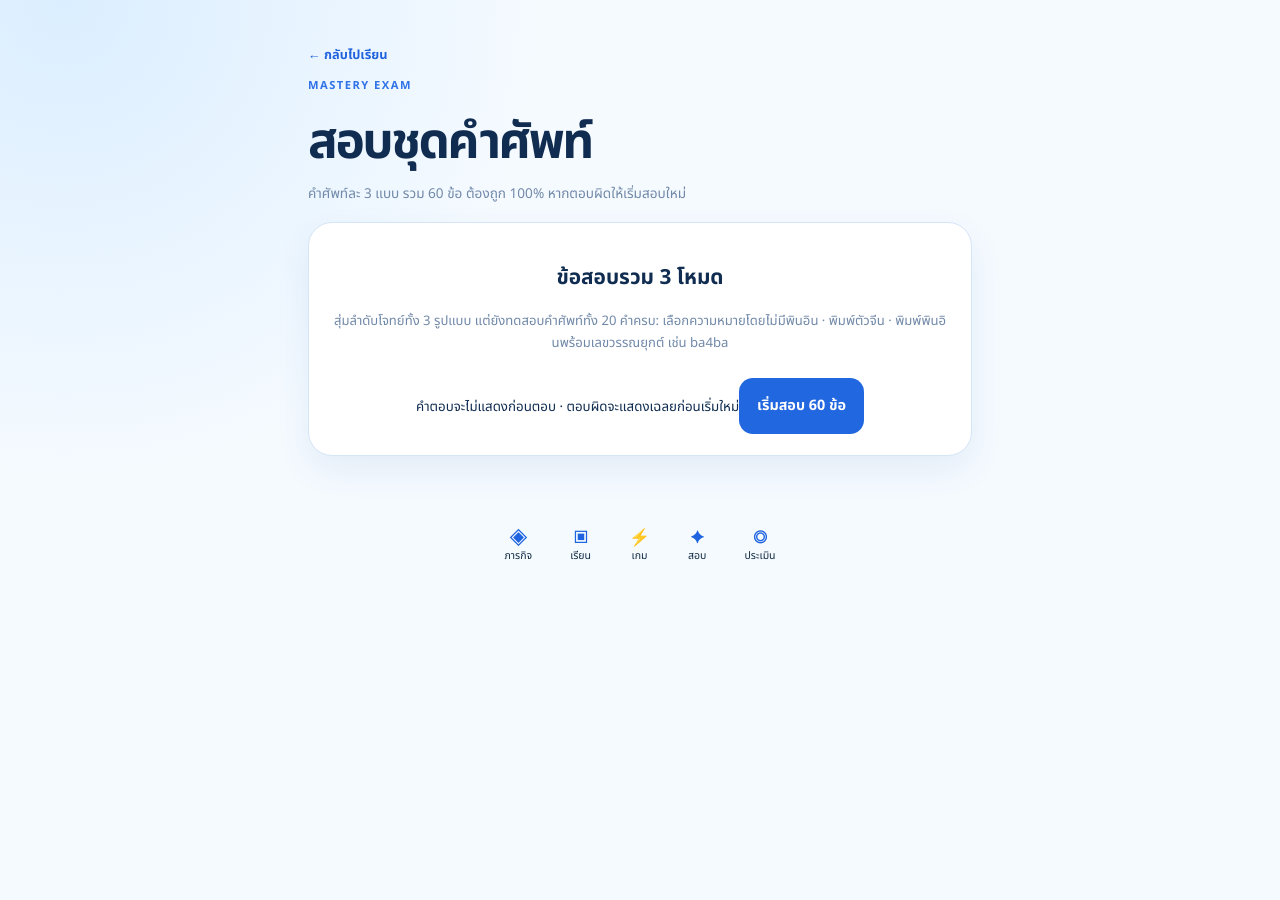
Test: starts a randomized 60-question exam containing all three question styles
The image size is (1280, 900).
Expected: the text "สุ่มลำดับโจทย์ทั้ง 3 รูปแบบ" is shown, [334,311,946,353]
Expected: the text "คำตอบจะไม่แสดงก่อนตอบ · ตอบผิดจะแสดงเฉลยก่อนเริ่มใหม่" is shown, [416,396,739,416]
Click the button "เริ่มสอบ 60 ข้อ": point(802, 406) [739,378,864,434]
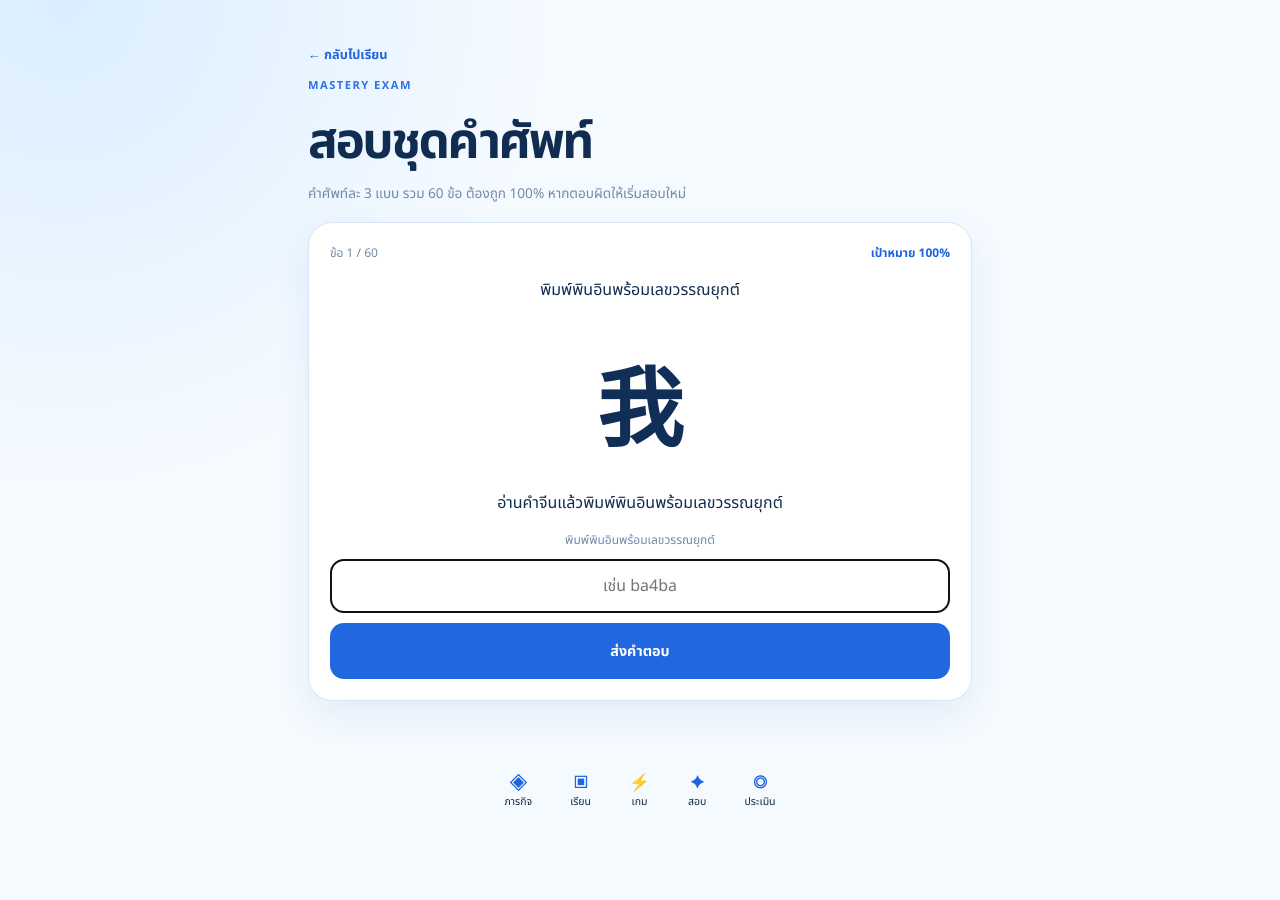
Expected: the text "พิมพ์พินอินพร้อมเลขวรรณยุกต์" is shown, [540,278,740,302]
Now the text "ข้อ 1 / 60" is shown, box [330,244,378,262]
